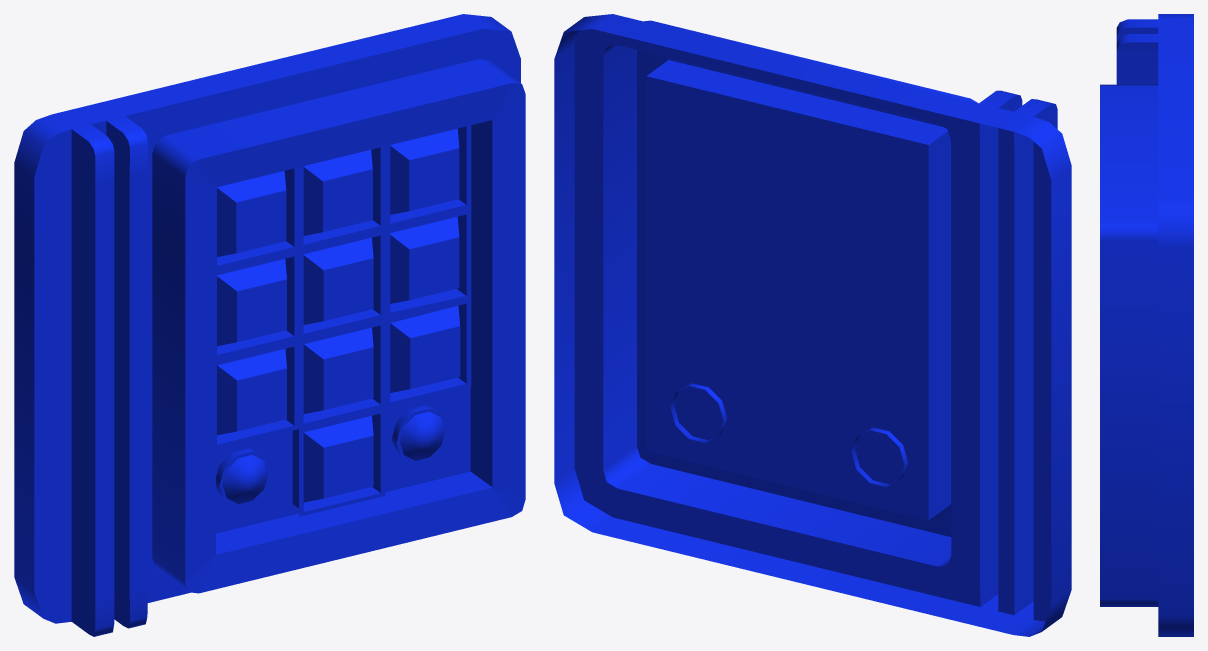
File: KeyPad.fbx
3 renders of one model, left to right at view 1: azimuth 30°, elevation 25°; view 2: azimuth 150°, elevation 25°; view 3: azimuth 270°, elevation 25°, orthographic. The views are drawn at different scales.
Parts seen in each view (by area): view 1: KepPad; view 2: KepPad; view 3: KepPad.
Boxes of the visible parts, box(x1,y1,x2,y2) form: KepPad: box(14, 14, 525, 636); KepPad: box(554, 14, 1071, 636); KepPad: box(1100, 14, 1193, 636).
Bounding box in the file's own units: 0.5038 × 0.4874 × 0.0948.
